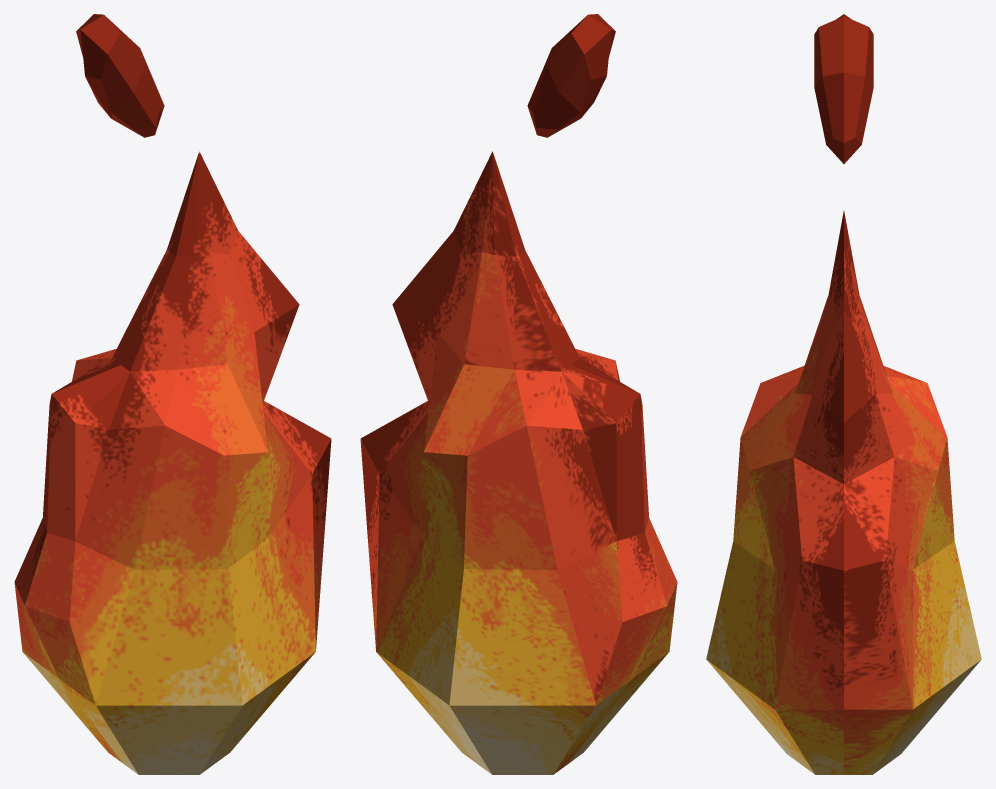
File: Flame1.fbx
3 views of the same model, side by side, from view 1: azimuth 30°, elevation 25°; view 2: azimuth 150°, elevation 25°; view 3: azimuth 270°, elevation 25° (orthographic). The views are drawn at different scales.
Visible parts, largest first — view 1: Flame 1; view 2: Flame 1; view 3: Flame 1.
Boxes of the visible parts, x1,y1,x2,y2 form: Flame 1: (14,14,331,774); Flame 1: (360,14,677,774); Flame 1: (706,14,981,774).
Bounding box in the file's own units: 19.88 × 46.71 × 16.48.
Materials: 1 (1 with a texture image).
